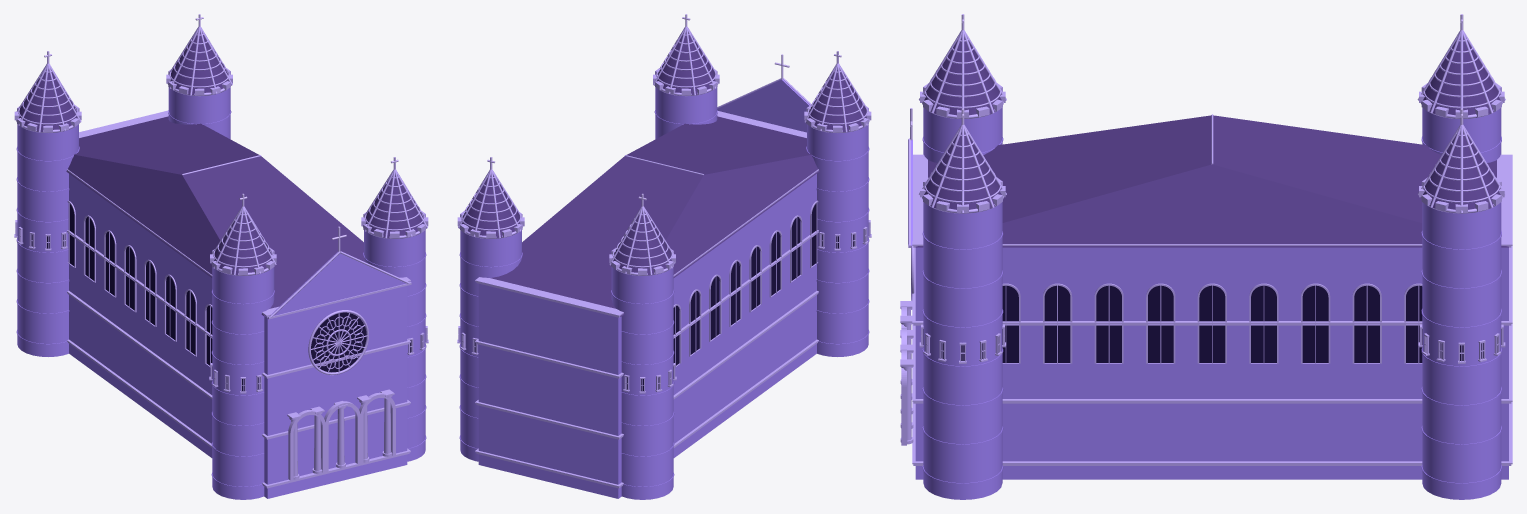
File: fourviere_violet_light.glb
3 renders of one model, left to right at view 1: azimuth 30°, elevation 25°; view 2: azimuth 150°, elevation 25°; view 3: azimuth 270°, elevation 25°, orthographic. The views are drawn at different scales.
Parts seen in each view (by area): view 1: Violet stone, Violet slate, Lavender carved stone, Recessed glazing; view 2: Violet stone, Violet slate, Lavender carved stone, Recessed glazing; view 3: Violet stone, Violet slate, Lavender carved stone, Recessed glazing.
Boxes of the visible parts, x1,y1,x2,y2 form: Violet stone: [16, 87, 426, 499]; Violet slate: [19, 33, 426, 316]; Lavender carved stone: [14, 26, 428, 488]; Recessed glazing: [31, 203, 411, 391]; Violet stone: [459, 79, 869, 499]; Violet slate: [459, 33, 866, 316]; Lavender carved stone: [457, 26, 871, 488]; Recessed glazing: [474, 203, 854, 391]; Violet stone: [911, 107, 1508, 499]; Violet slate: [915, 38, 1508, 247]; Lavender carved stone: [900, 30, 1512, 465]; Recessed glazing: [923, 285, 1501, 362].
Size of the model in its own units: 36.28 by 48 by 71.17.
